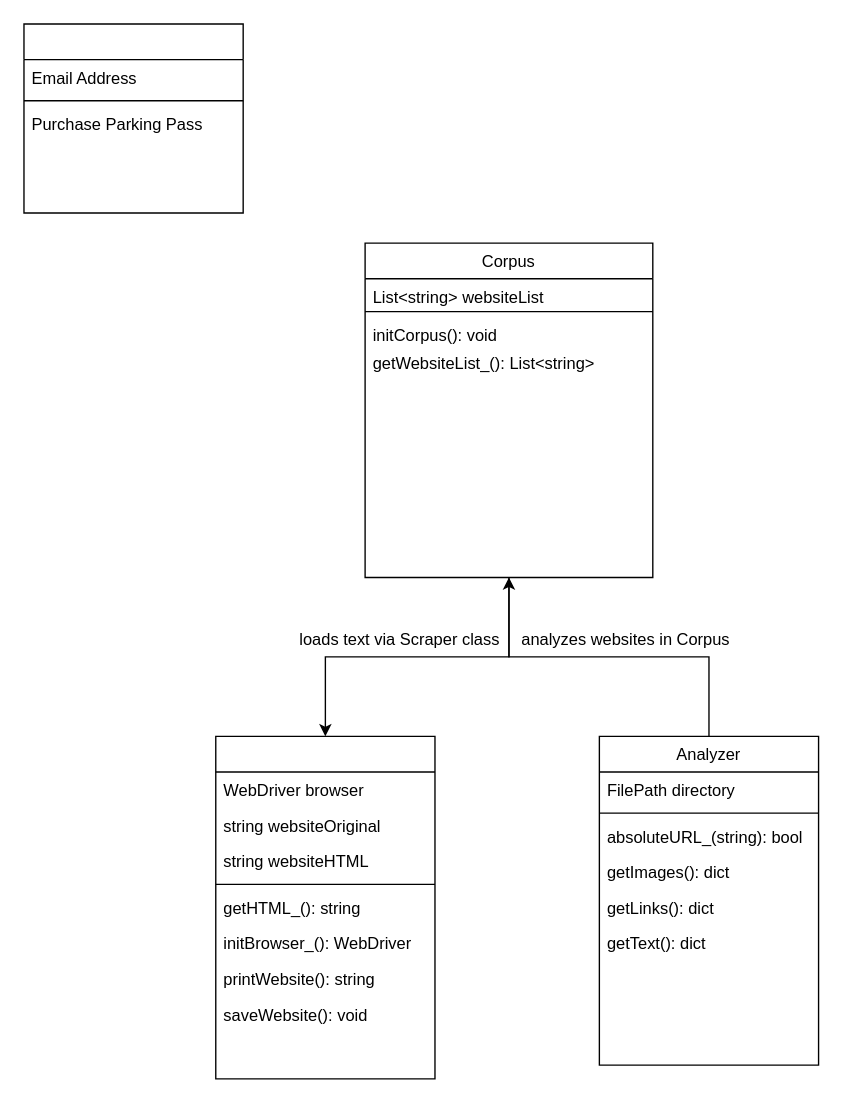
The diagram is 843 pixels wide and 1103 high, and some of its shapes have lost their labels. The box of each missing label's shape, as (x1, y1, x2, y2) in pixels:
Main: (23, 23, 243, 213)
Scraper: (214, 735, 435, 1079)
